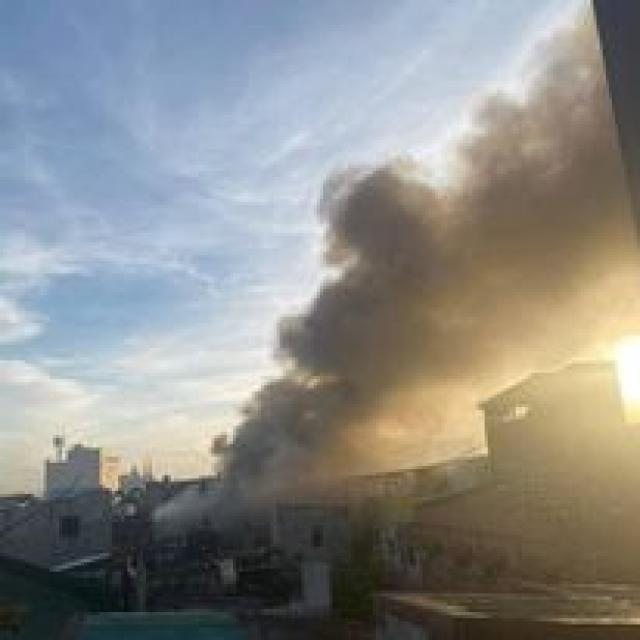Smoke: (207, 432, 330, 536)
